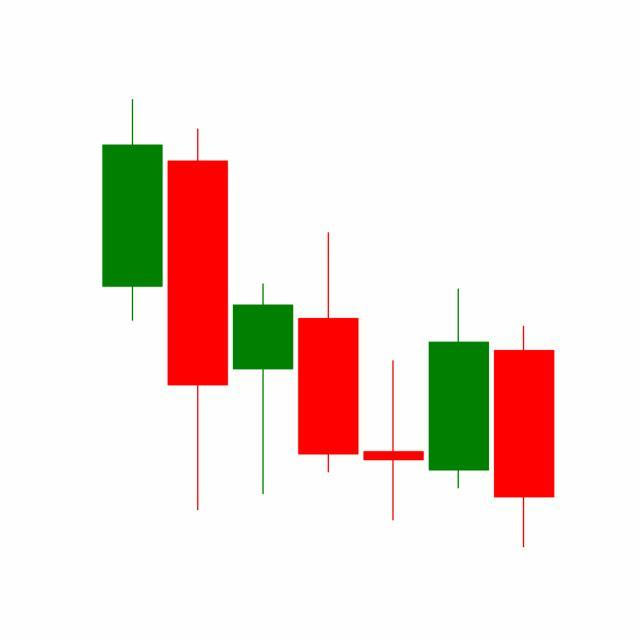Hikkake Pattern: (229, 229, 555, 549)
